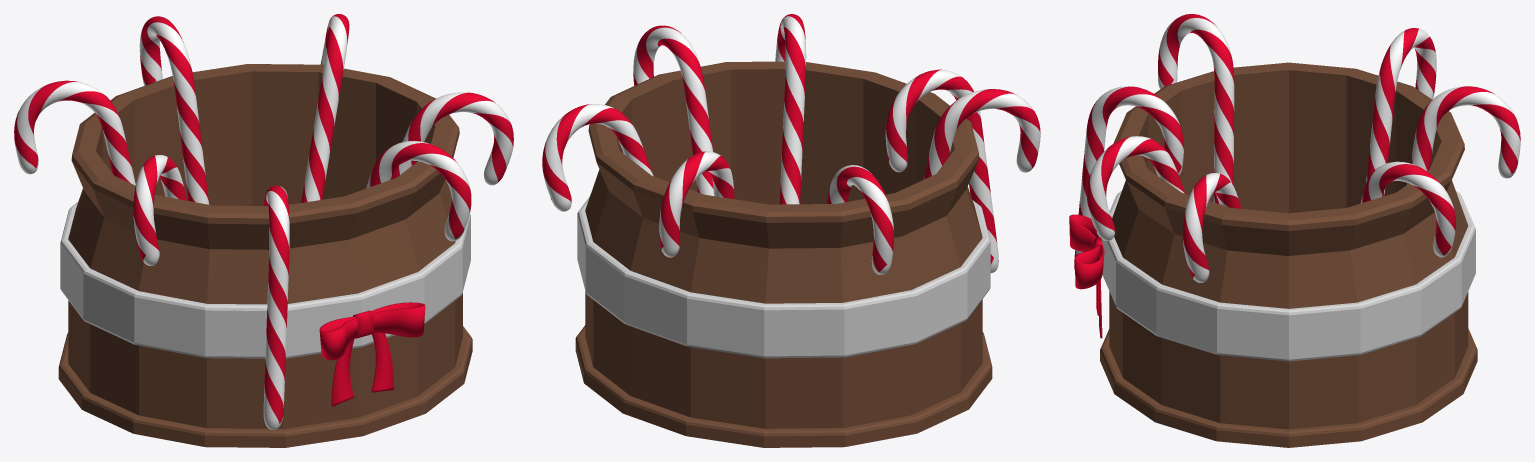
The model's file is CandycaneBasket.fbx.
The picture shows the model from 3 angles, left to right: view 1: azimuth 30°, elevation 25°; view 2: azimuth 150°, elevation 25°; view 3: azimuth 270°, elevation 25°; orthographic projection. The views are drawn at different scales.
Parts seen in each view (by area): view 1: Candy Bowl, Bow.016, Vert.007, Vert.009, Vert.006, Vert.005, Vert.002, Vert.001, Vert.008; view 2: Candy Bowl, Vert.009, Vert.001, Vert.002, Vert.008, Vert.005, Vert.007, Vert.006; view 3: Candy Bowl, Vert.008, Vert.006, Vert.009, Vert.007, Vert.001, Vert.005, Vert.002, Bow.016.
Boxes of the visible parts, <box> form: Candy Bowl: <box>58,64,472,447</box>; Bow.016: <box>319,302,425,406</box>; Vert.007: <box>139,16,209,204</box>; Vert.009: <box>263,185,289,429</box>; Vert.006: <box>14,80,135,185</box>; Vert.005: <box>301,14,349,202</box>; Vert.002: <box>390,92,513,185</box>; Vert.001: <box>366,141,471,241</box>; Vert.008: <box>133,155,186,265</box>; Candy Bowl: <box>575,61,992,447</box>; Vert.009: <box>885,69,998,273</box>; Vert.001: <box>775,14,806,204</box>; Vert.002: <box>633,25,713,195</box>; Vert.008: <box>924,89,1040,179</box>; Vert.005: <box>542,104,653,211</box>; Vert.007: <box>659,151,734,257</box>; Vert.006: <box>827,165,893,274</box>; Candy Bowl: <box>1100,62,1477,447</box>; Vert.008: <box>1158,14,1234,204</box>; Vert.006: <box>1366,28,1436,196</box>; Vert.009: <box>1074,86,1183,269</box>; Vert.007: <box>1407,86,1520,184</box>; Vert.001: <box>1087,136,1185,240</box>; Vert.005: <box>1360,161,1455,257</box>; Vert.002: <box>1182,173,1241,282</box>; Bow.016: <box>1069,214,1104,338</box>.
Bounding box in the file's own units: 284 × 194 × 295.
